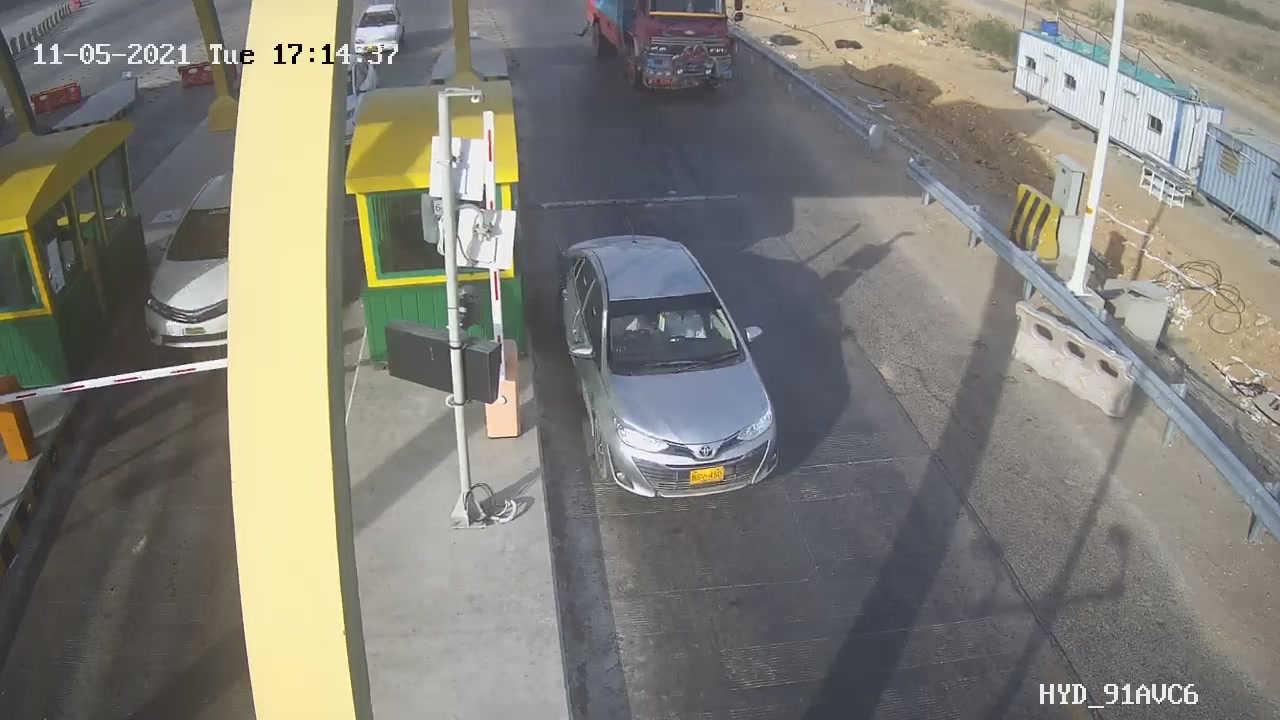F1: (538, 217, 807, 524)
